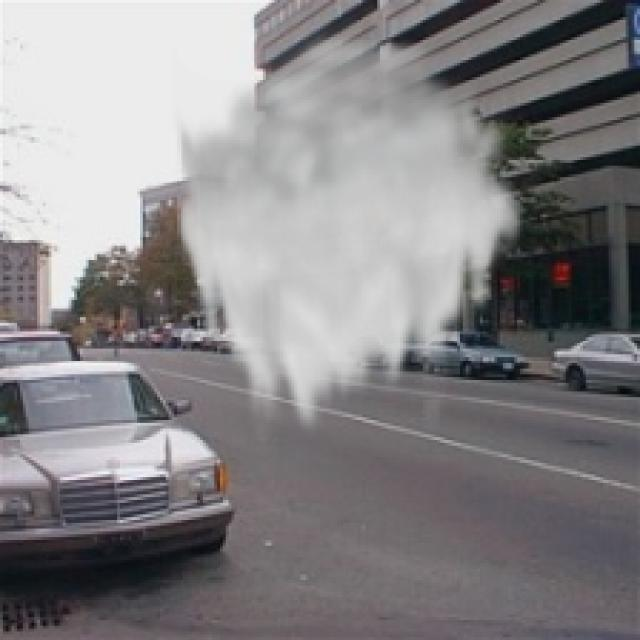Smoke: (172, 26, 528, 446)
